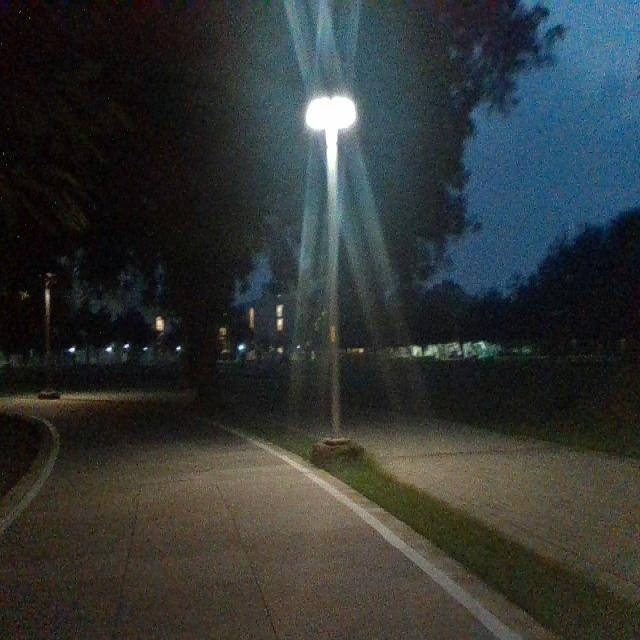lane: (4, 399, 498, 639)
